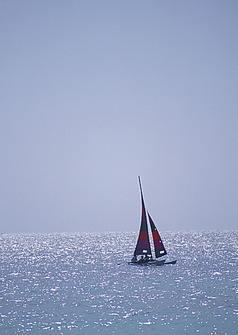fanchuan: (129, 176, 176, 271)
